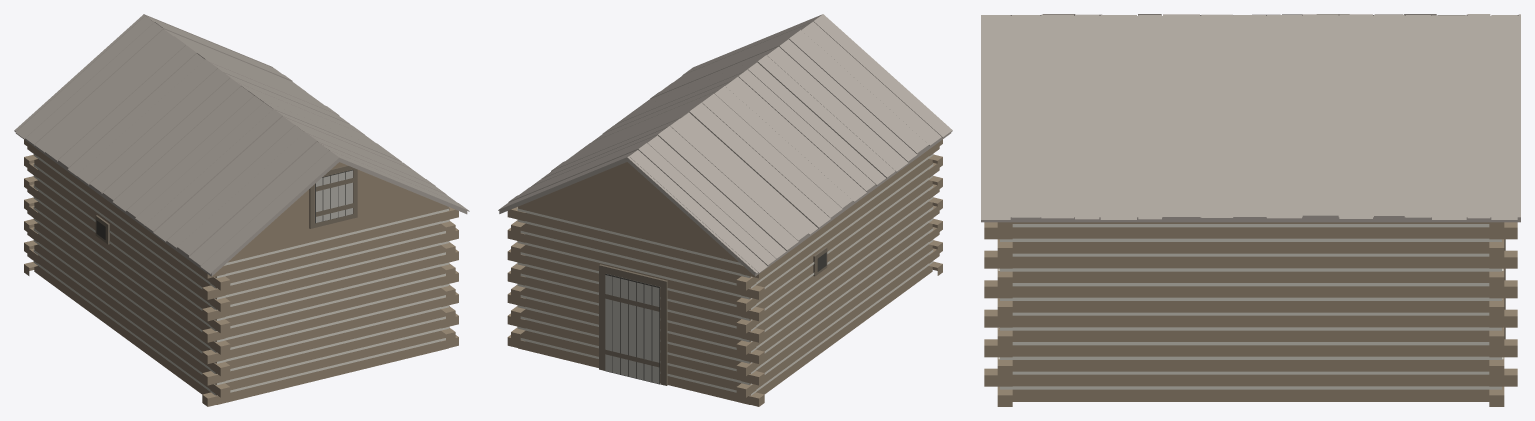
The model's file is recon_1835_blk_south_water_wells_a1_07__inferred_1835.glb.
3 views of the same model, side by side, from view 1: azimuth 30°, elevation 25°; view 2: azimuth 150°, elevation 25°; view 3: azimuth 270°, elevation 25° (orthographic). The views are drawn at different scales.
Visible parts, largest first — view 1: recon_1835_blk_south_water_wells_a1_07__inferred_1835; view 2: recon_1835_blk_south_water_wells_a1_07__inferred_1835; view 3: recon_1835_blk_south_water_wells_a1_07__inferred_1835.
Part boxes in pixels (box(x1,y1,x2,y2)): recon_1835_blk_south_water_wells_a1_07__inferred_1835: box(14, 14, 469, 406); recon_1835_blk_south_water_wells_a1_07__inferred_1835: box(498, 14, 952, 406); recon_1835_blk_south_water_wells_a1_07__inferred_1835: box(981, 14, 1520, 406).
Size of the model in its own units: 6.43 by 5.31 by 8.38.
